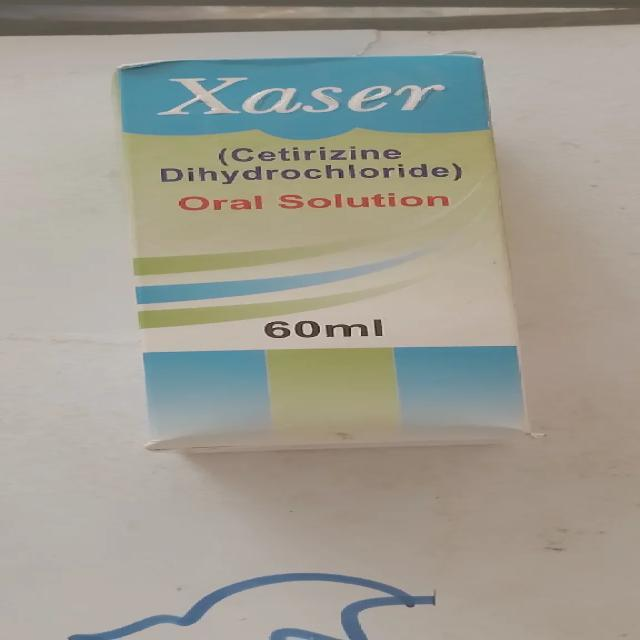drug-name: (157, 74, 472, 119)
